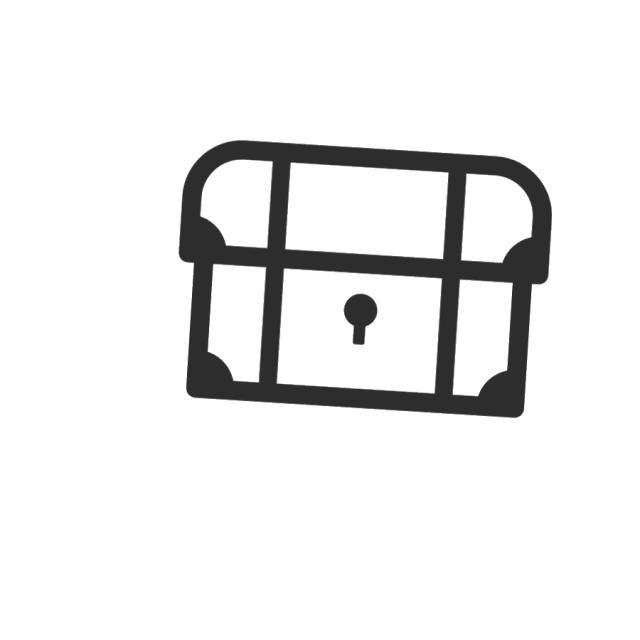treasure_box: (176, 139, 557, 423)
